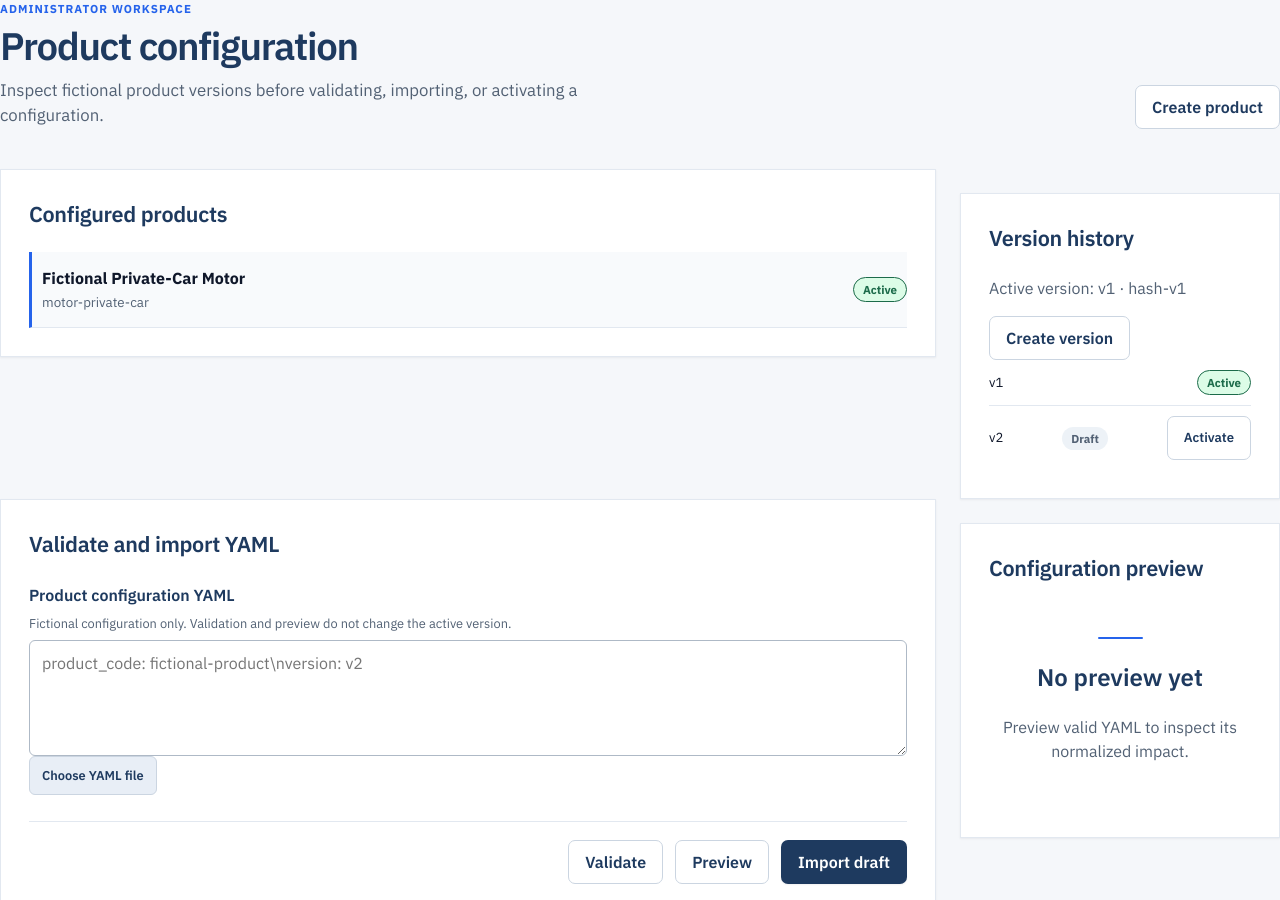
product activation › asks for confirmation before activating a draft
Step 1. Click the button "Activate" → {"x": 1209, "y": 438}, box [1167,416,1251,460]
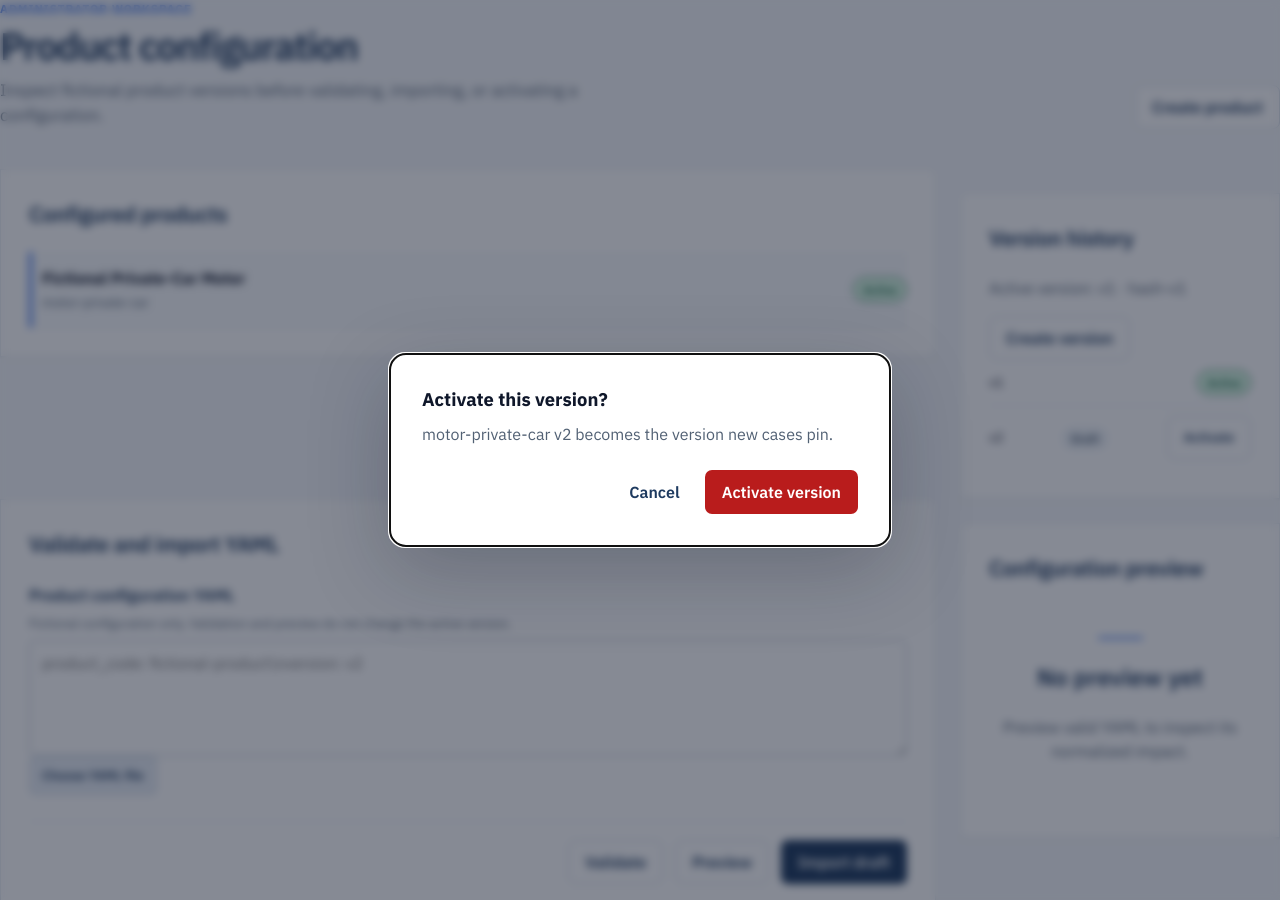
Check: the heading "Activate this version?" is shown, box [422,387,608,411]
